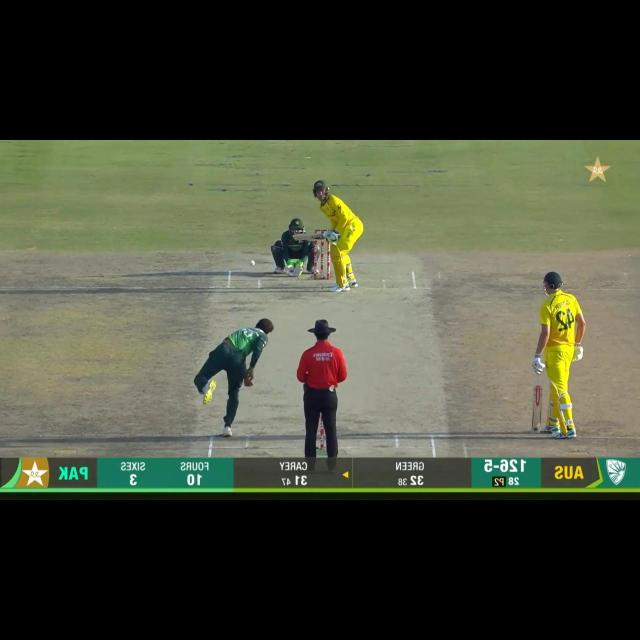bat: (530, 387, 544, 432), (293, 232, 327, 242)
toe: (529, 419, 544, 433), (291, 231, 302, 242)
